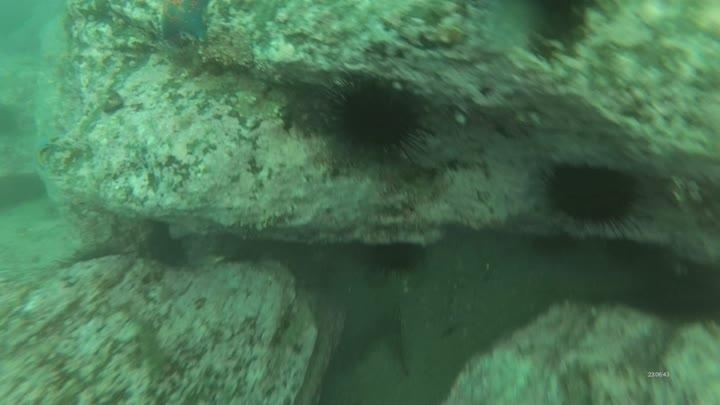echinus: (324, 73, 431, 164), (539, 158, 646, 233), (362, 238, 428, 280), (142, 226, 192, 271)
starfish: (155, 0, 214, 44)
